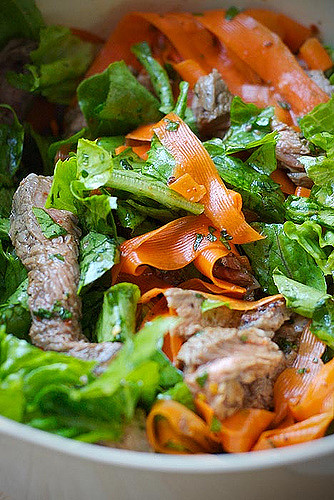chopped lettuce: (83, 93, 334, 231), (9, 347, 143, 438)
